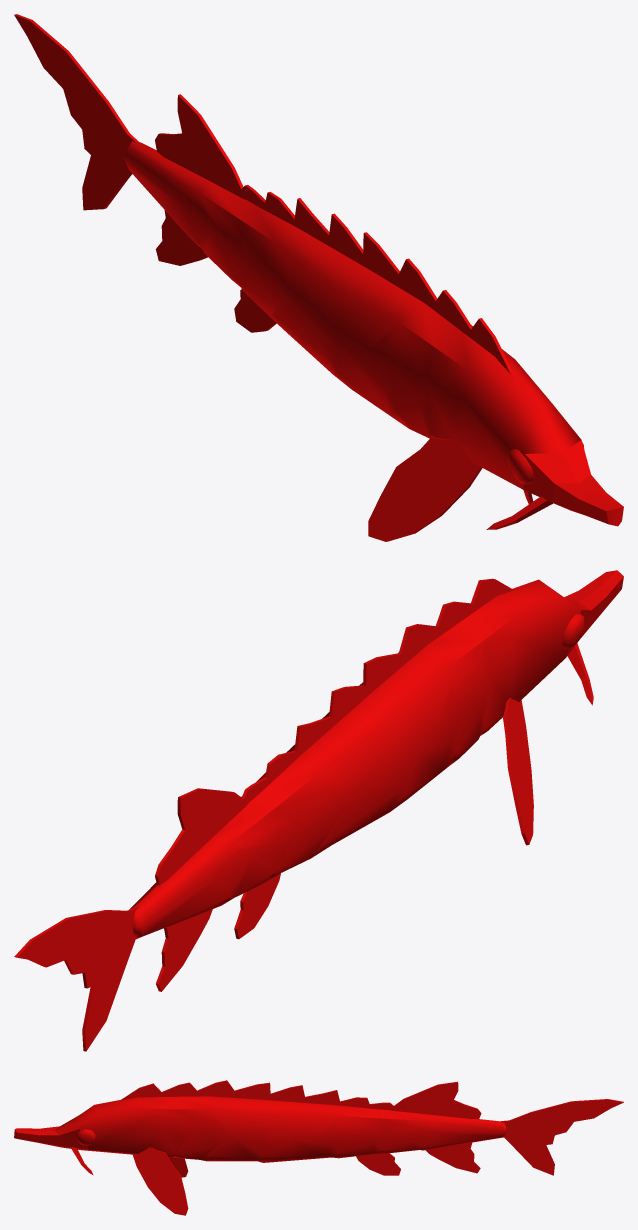
3 renders of one model, top to bottom at view 1: azimuth 30°, elevation 25°; view 2: azimuth 150°, elevation 25°; view 3: azimuth 270°, elevation 25°, orthographic. The views are drawn at different scales.
Parts seen in each view (by area): view 1: Fish_Sturgeon; view 2: Fish_Sturgeon; view 3: Fish_Sturgeon.
Boxes of the visible parts, box(x1,y1,x2,y2) form: Fish_Sturgeon: box(14, 14, 623, 541); Fish_Sturgeon: box(14, 570, 623, 1051); Fish_Sturgeon: box(14, 1080, 623, 1215).
Size of the model in its own units: 0.2748 by 0.3726 by 1.78.
